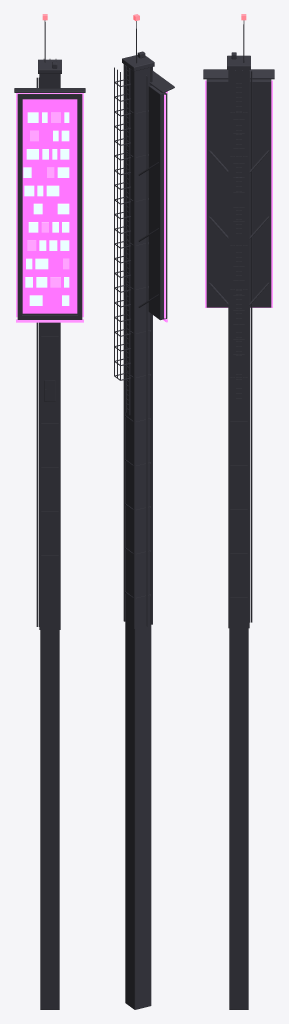
File: pylon.glb
3 views of the same model, side by side, from view 1: azimuth 90°, elevation 25°; view 2: azimuth 210°, elevation 25°; view 3: azimuth 270°, elevation 25° (orthographic).
Parts seen in each view (by area): view 1: pylon; view 2: pylon; view 3: pylon.
Part boxes in pixels (x1=…): pylon: x1=14, y1=14, x2=85, y2=1009; pylon: x1=114, y1=14, x2=174, y2=1009; pylon: x1=203, y1=14, x2=274, y2=1009.
Size of the model in its own units: 2.85 by 67.55 by 4.4.
